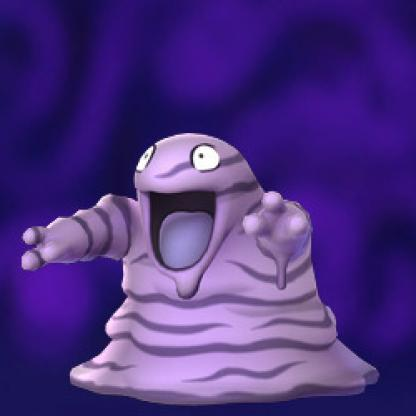Grimer: (19, 127, 384, 406)
